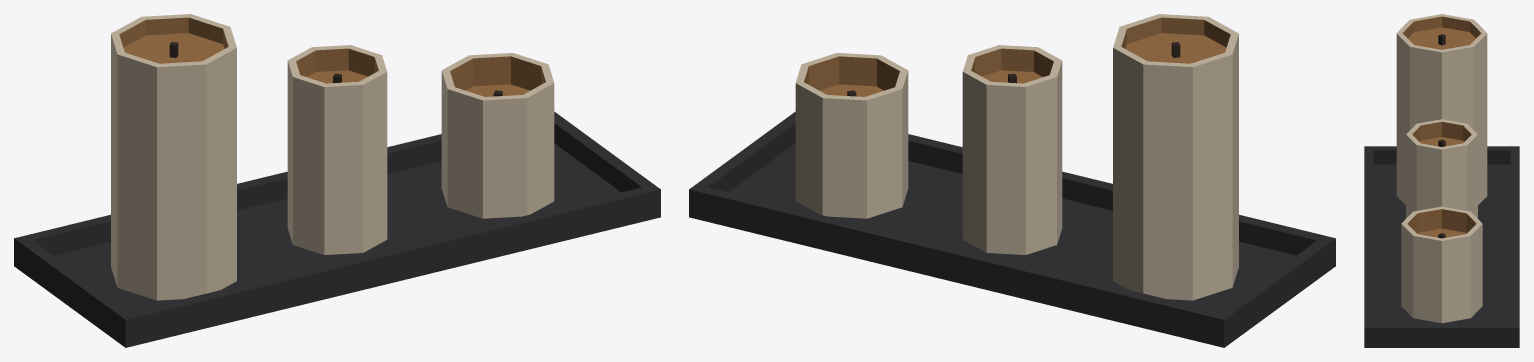
Rendered from FN_Candles_Pillar.glb.
The picture shows the model from 3 angles, left to right: view 1: azimuth 30°, elevation 25°; view 2: azimuth 150°, elevation 25°; view 3: azimuth 270°, elevation 25°; orthographic projection. The views are drawn at different scales.
Visible parts, largest first — view 1: FN_Candles_Pillar; view 2: FN_Candles_Pillar; view 3: FN_Candles_Pillar.
Boxes of the visible parts, x1=… form: FN_Candles_Pillar: x1=14, y1=14, x2=660, y2=347; FN_Candles_Pillar: x1=689, y1=14, x2=1335, y2=347; FN_Candles_Pillar: x1=1364, y1=14, x2=1519, y2=347.
Size of the model in its own units: 0.36 by 0.155 by 0.13.
1 material, 1 textured.
